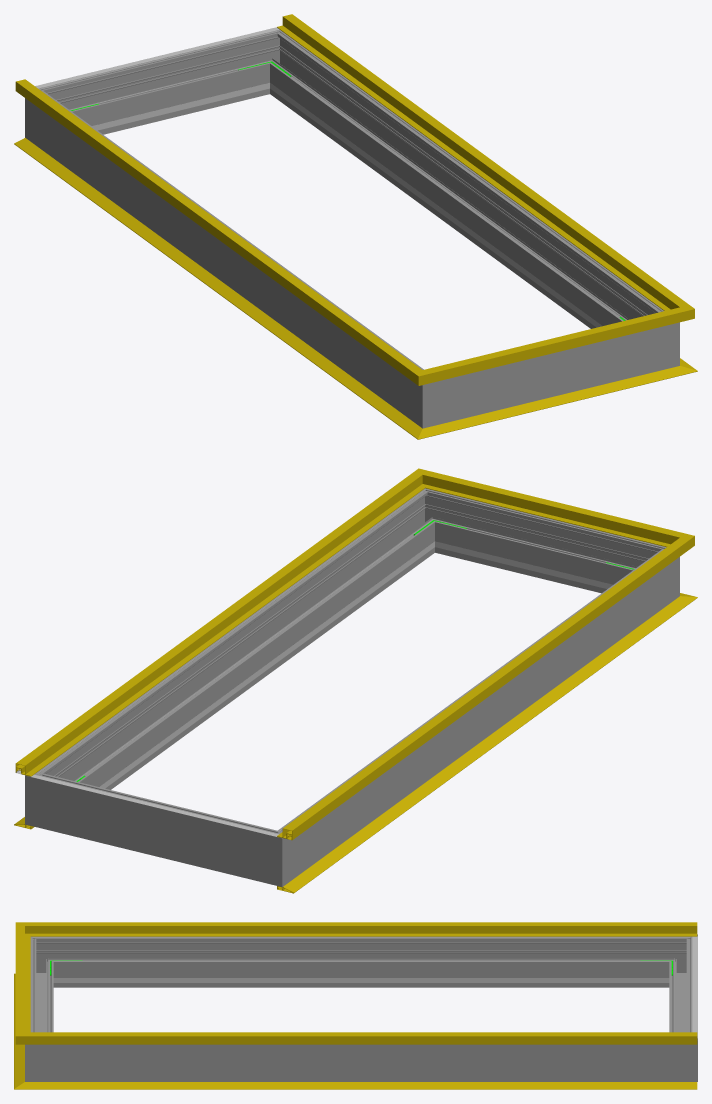
3 views of the same model, one above another, from view 1: azimuth 30°, elevation 25°; view 2: azimuth 150°, elevation 25°; view 3: azimuth 270°, elevation 25° (orthographic). The views are drawn at different scales.
Parts seen in each view (by area): view 1: 3DGeom-298, 3DGeom-269, 3DGeom-277, 3DGeom-128, 3DGeom-299, 3DGeom-118, 3DGeom-38, 3DGeom-123, 3DGeom-271, 3DGeom-28, 3DGeom-238, 3DGeom-285 (+6 smaller); view 2: 3DGeom-298, 3DGeom-269, 3DGeom-299, 3DGeom-277, 3DGeom-128, 3DGeom-118, 3DGeom-38, 3DGeom-123, 3DGeom-279, 3DGeom-238, 3DGeom-285, 3DGeom-291 (+5 smaller); view 3: 3DGeom-269, 3DGeom-298, 3DGeom-118, 3DGeom-128, 3DGeom-30, 3DGeom-233, 3DGeom-277, 3DGeom-299, 3DGeom-285, 3DGeom-123, 3DGeom-291, 3DGeom-279 (+6 smaller).
Boxes of the visible parts, <box> form: 3DGeom-298: <box>273,42,653,328</box>; 3DGeom-269: <box>45,100,413,413</box>; 3DGeom-277: <box>63,37,264,134</box>; 3DGeom-128: <box>277,14,674,307</box>; 3DGeom-299: <box>457,331,644,419</box>; 3DGeom-118: <box>15,79,407,370</box>; 3DGeom-38: <box>14,138,408,424</box>; 3DGeom-123: <box>449,313,659,377</box>; 3DGeom-271: <box>402,362,457,428</box>; 3DGeom-28: <box>447,371,662,431</box>; 3DGeom-238: <box>289,97,602,327</box>; 3DGeom-285: <box>250,29,296,95</box>; 3DGeom-298: <box>51,500,431,789</box>; 3DGeom-269: <box>291,559,659,871</box>; 3DGeom-299: <box>441,495,641,593</box>; 3DGeom-277: <box>60,779,253,878</box>; 3DGeom-128: <box>15,483,413,776</box>; 3DGeom-118: <box>277,548,674,840</box>; 3DGeom-38: <box>277,606,677,893</box>; 3DGeom-123: <box>445,477,659,543</box>; 3DGeom-279: <box>247,821,302,887</box>; 3DGeom-238: <box>99,555,415,788</box>; 3DGeom-285: <box>25,762,66,832</box>; 3DGeom-291: <box>408,488,454,554</box>; 3DGeom-269: <box>59,936,663,987</box>; 3DGeom-298: <box>59,1044,663,1081</box>; 3DGeom-118: <box>50,922,697,936</box>; 3DGeom-128: <box>50,1032,697,1044</box>; 3DGeom-30: <box>48,1082,697,1089</box>; 3DGeom-233: <box>86,978,636,982</box>; 3DGeom-277: <box>669,948,692,1032</box>; 3DGeom-299: <box>30,948,53,1032</box>; 3DGeom-285: <box>663,1026,697,1081</box>; 3DGeom-123: <box>15,936,30,1029</box>; 3DGeom-291: <box>25,1026,59,1081</box>; 3DGeom-279: <box>663,934,697,987</box>.
Bounding box in the file's own units: 1.22 × 0.2596 × 3.05.
